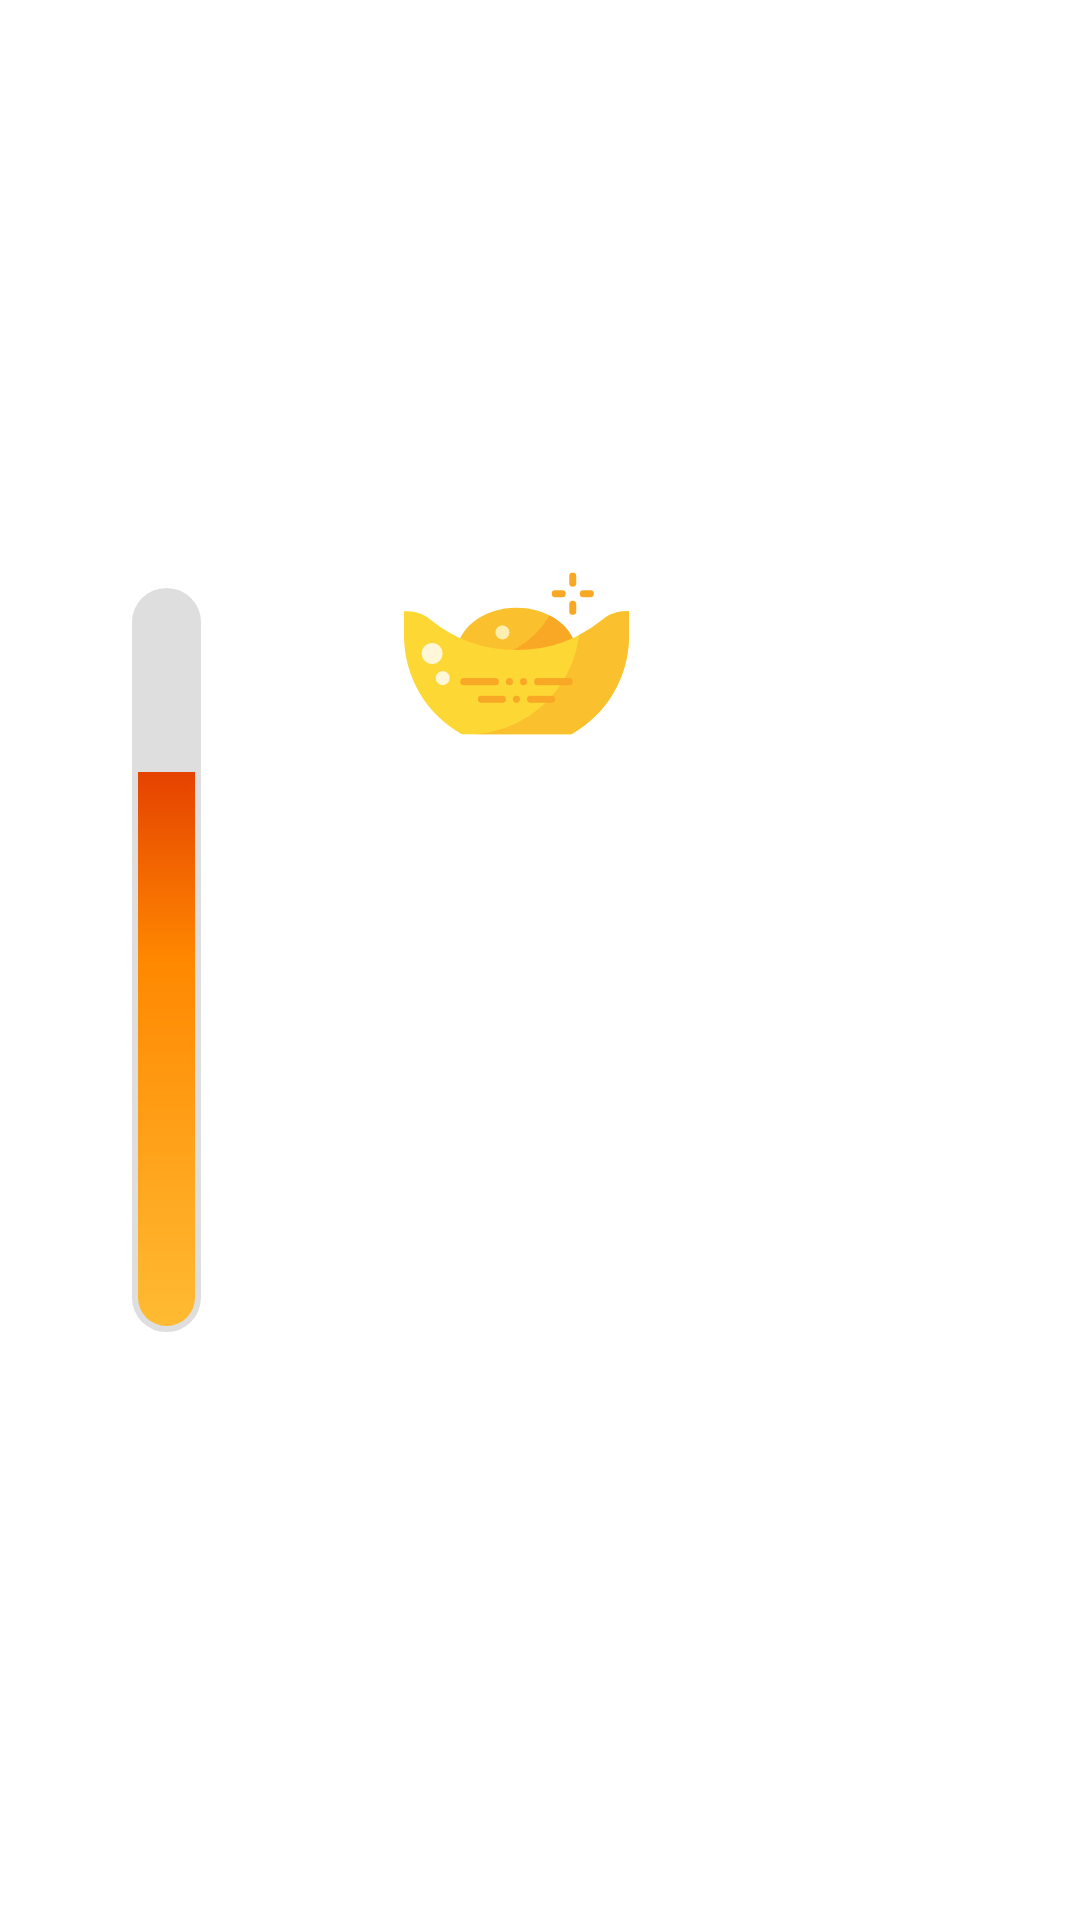

Point at icon controls on the screen. Image size 1080 × 1920, points as (x,y).
gold ingot: (516,653)
